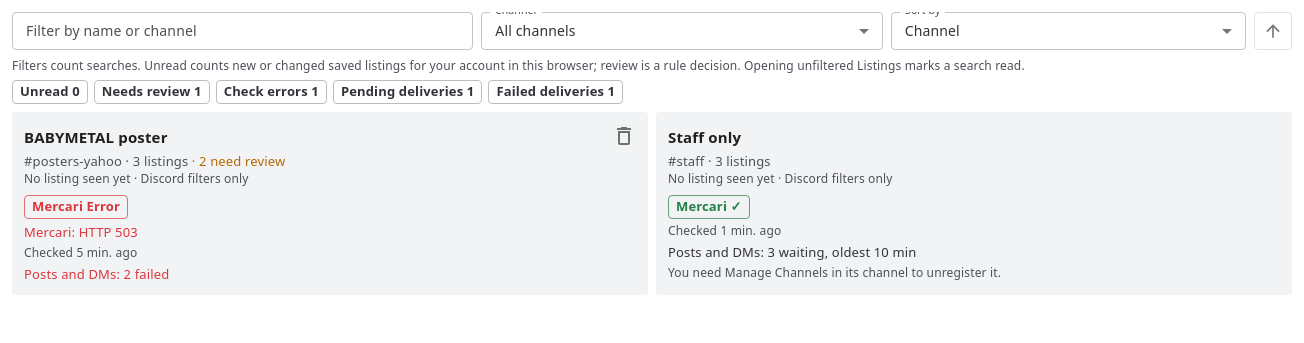
SearchList on a phone's inventory › keeps the filters, sorting and live checks on the cards
Check: the search field labelled "Filter by name or channel" is shown, box [12,12,473,50]
Check: the dropdown labelled "Sort by" is shown, box [891,12,1246,50]
Click the button "Pending deliveries 1": (408, 92) [333,80,482,104]
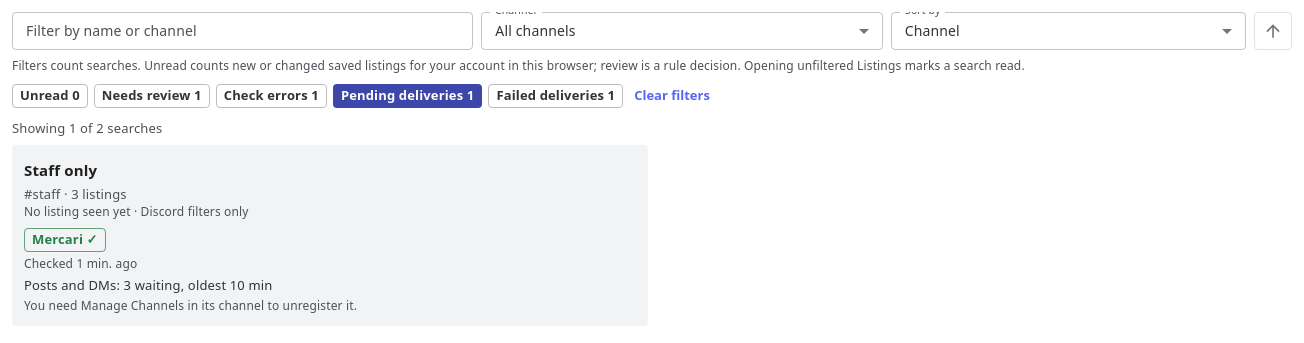
Check: the button "BABYMETAL poster" is gone
